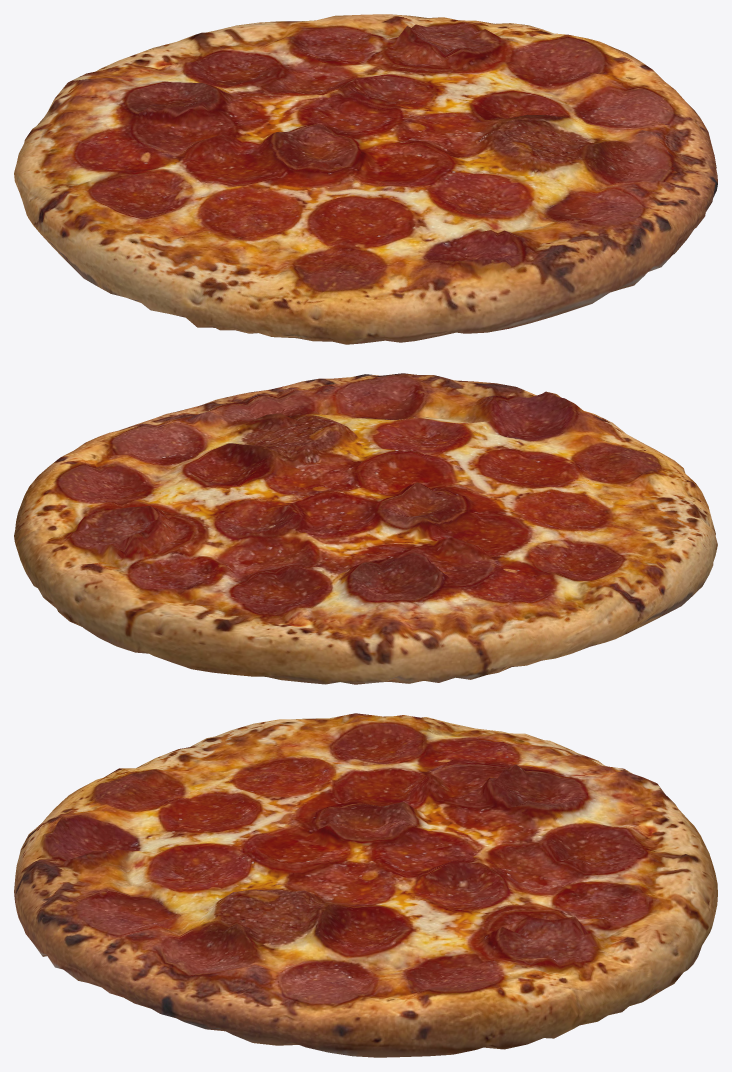
Rendered from pepperoni_3.glb.
3 renders of one model, top to bottom at view 1: azimuth 30°, elevation 25°; view 2: azimuth 150°, elevation 25°; view 3: azimuth 270°, elevation 25°, orthographic. The views are drawn at different scales.
Parts seen in each view (by area): view 1: Material2.021; view 2: Material2.021; view 3: Material2.021.
Boxes of the visible parts, x1=… form: Material2.021: x1=14, y1=14, x2=717, y2=344; Material2.021: x1=14, y1=373, x2=717, y2=684; Material2.021: x1=14, y1=713, x2=717, y2=1057.
Bounding box in the file's own units: 1.2 × 0.1364 × 1.16.
Materials: 1 (1 with a texture image).
